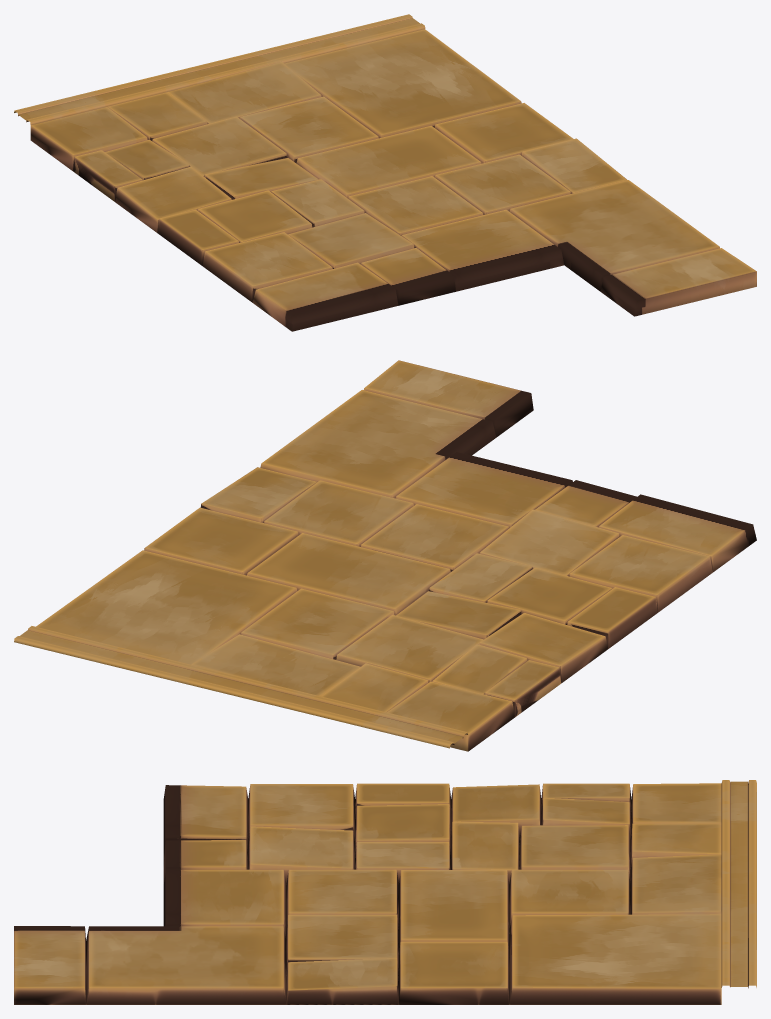
The model's file is MSH_Floor08.fbx.
3 views of the same model, one above another, from view 1: azimuth 30°, elevation 25°; view 2: azimuth 150°, elevation 25°; view 3: azimuth 270°, elevation 25° (orthographic). The views are drawn at different scales.
Visible parts, largest first — view 1: MSH_Floor08; view 2: MSH_Floor08; view 3: MSH_Floor08.
Part boxes in pixels (x1,y1,x2,y2): MSH_Floor08: (14,14,756,331); MSH_Floor08: (14,360,756,751); MSH_Floor08: (14,780,756,1004).
Size of the model in its own units: 550 by 24.27 by 840.
